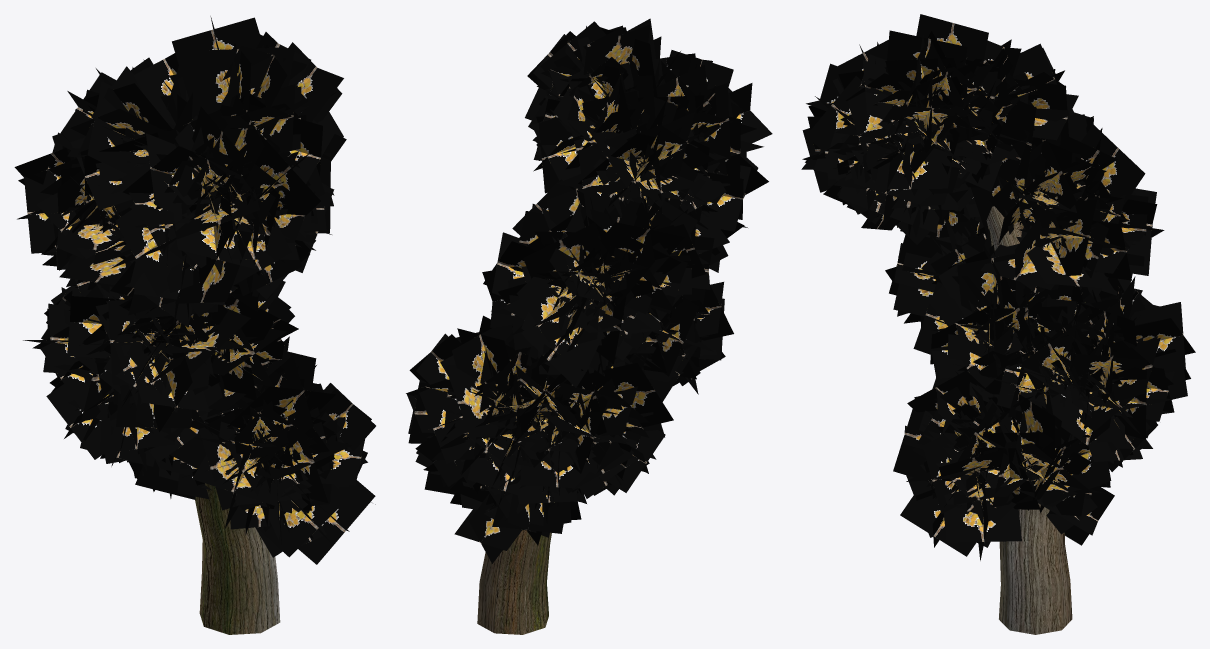
File: eztree-hophornbeam-understory-c.glb
3 renders of one model, left to right at view 1: azimuth 30°, elevation 25°; view 2: azimuth 150°, elevation 25°; view 3: azimuth 270°, elevation 25°, orthographic. The views are drawn at different scales.
Visible parts, largest first — view 1: eztree-hophornbeam-understory-c; view 2: eztree-hophornbeam-understory-c; view 3: eztree-hophornbeam-understory-c.
Boxes of the visible parts, <box> form: eztree-hophornbeam-understory-c: <box>14,16,375,634</box>; eztree-hophornbeam-understory-c: <box>406,18,772,634</box>; eztree-hophornbeam-understory-c: <box>801,14,1195,634</box>.
Size of the model in its own units: 13.15 by 25.78 by 16.08.
Materials: 2 (2 with a texture image).
